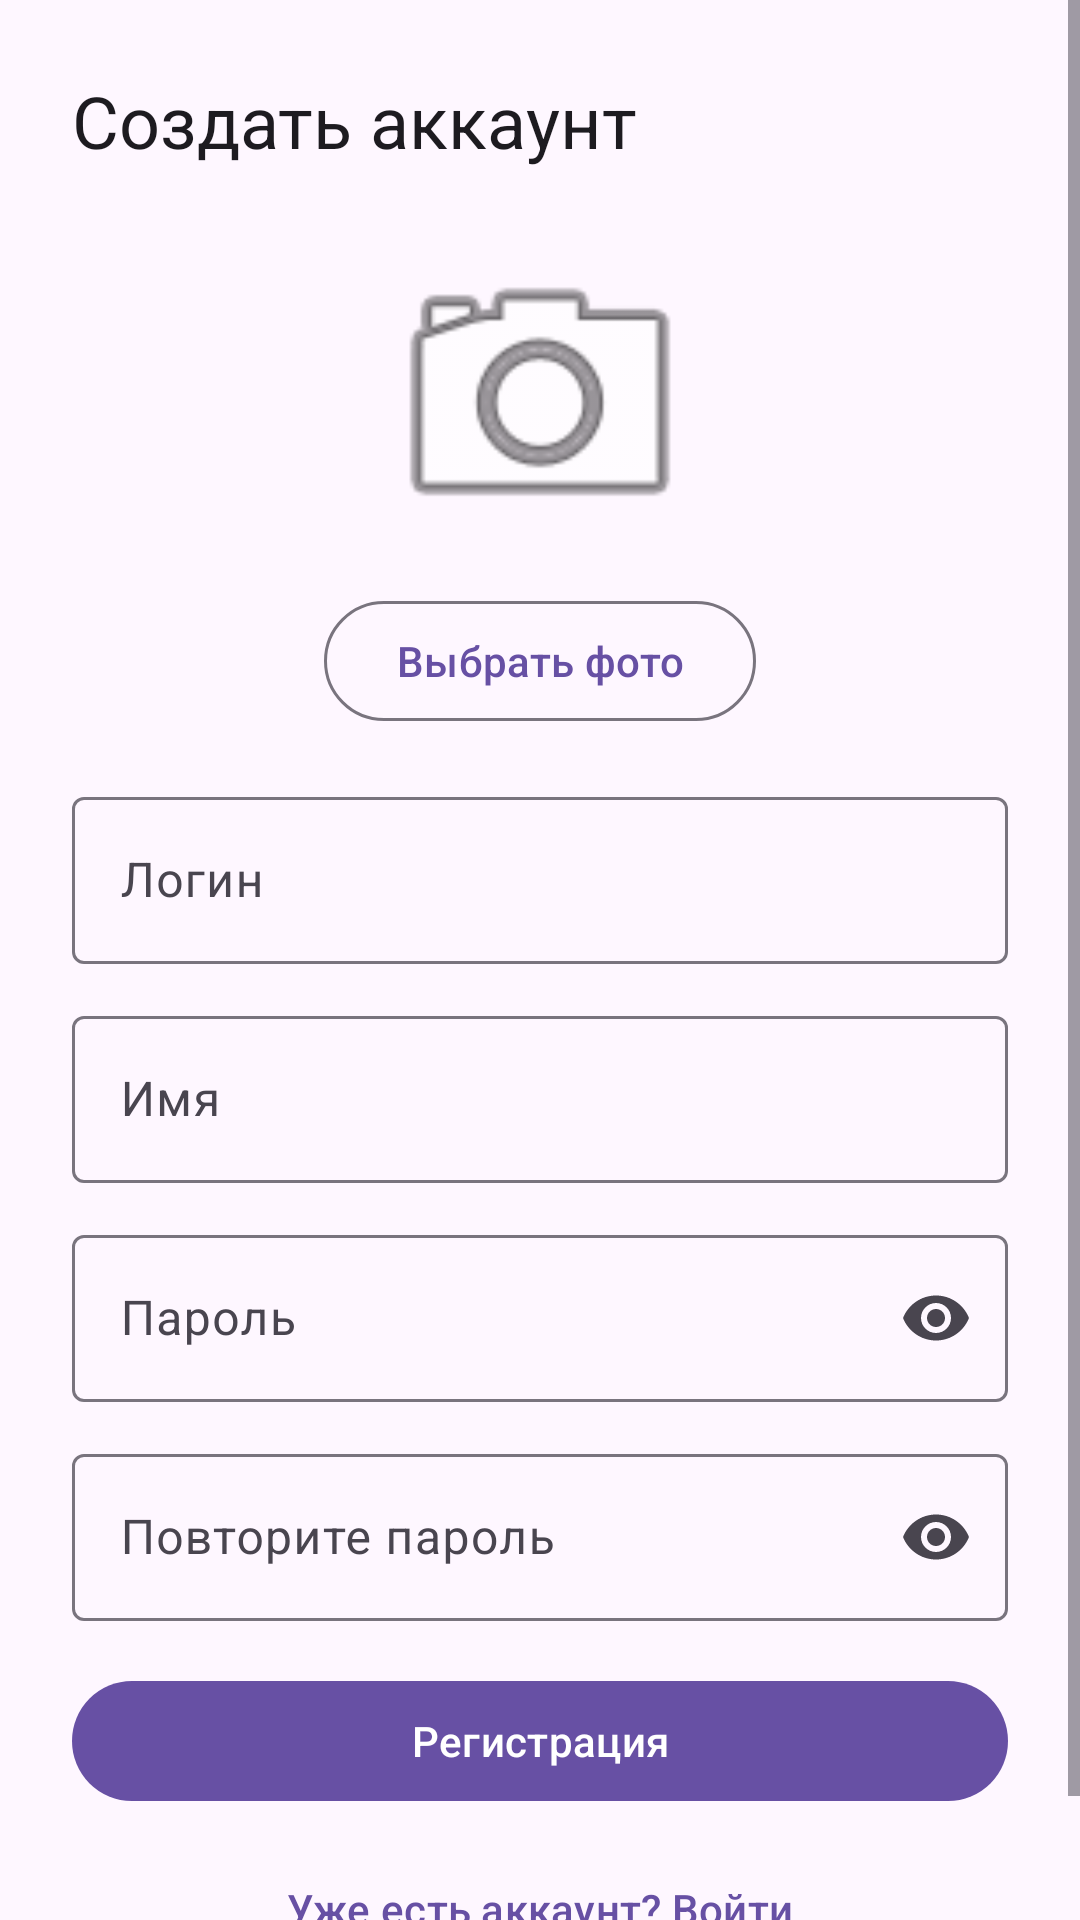

Icons on this 1080×1920 Android screen, each with the point to tap as [x,y]:
Предварительный просмотр аватара: [540,391]
